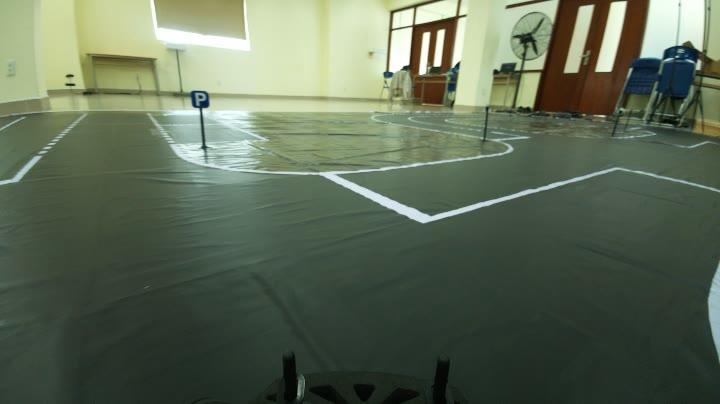parking: (188, 88, 218, 114)
